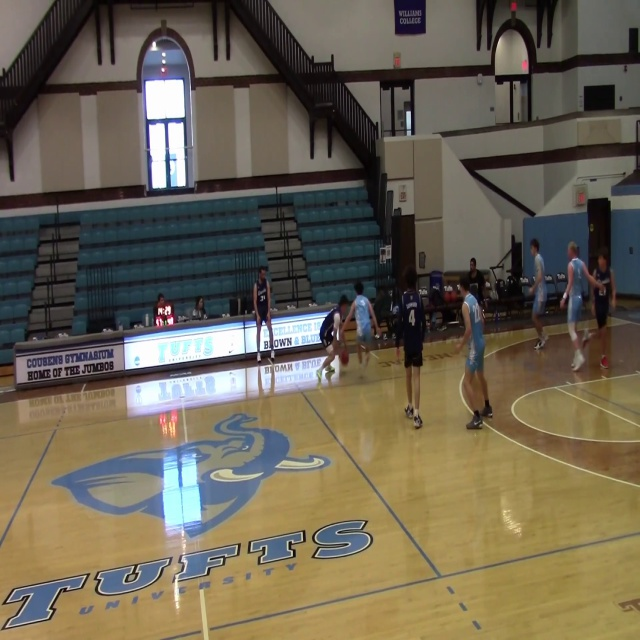Basketball: (340, 348, 349, 364)
